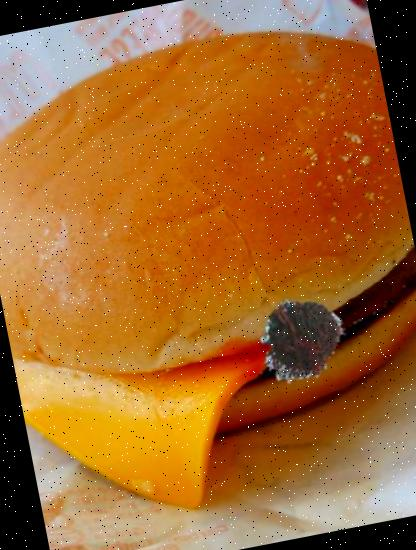Rambutan: (241, 286, 354, 399)
